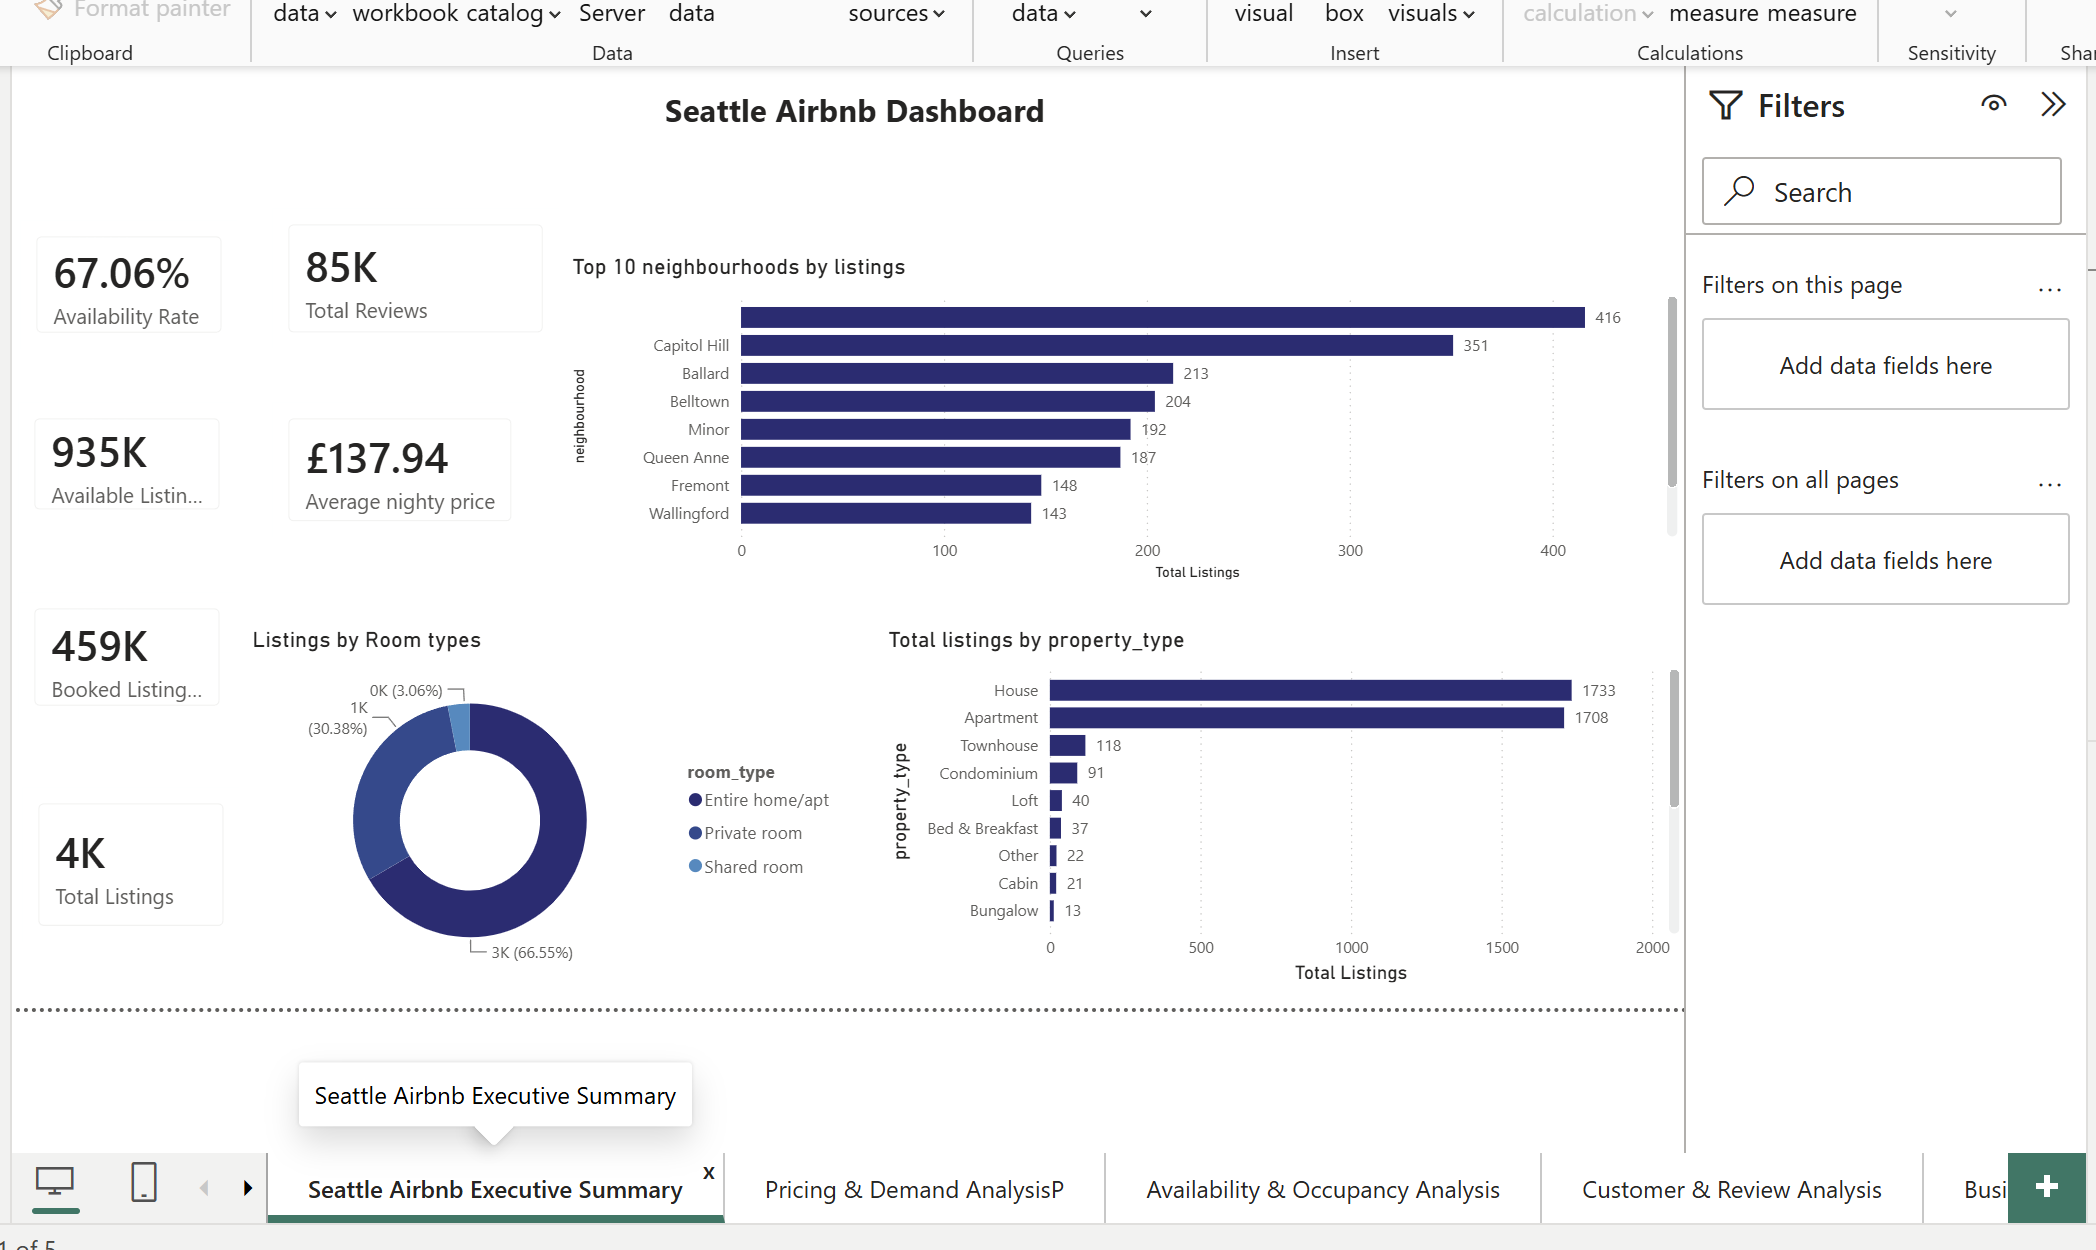

This screenshot's page, from the dashboard's own definition file:
{"tool":"powerbi","page":{"name":"Seattle Airbnb Executive Summary","canvas":[1280,720],"ordinal":0},"visuals":[{"type":"cardVisual","fields":{"Data":["calendar.Total Listings"]},"box":[3.1,546.6,176.1,128.6],"z":0},{"type":"cardVisual","fields":{"Data":["calendar.Property availible"]},"box":[0,252.6,176.1,104.1],"z":1000},{"type":"cardVisual","fields":{"Data":["calendar.Property not availiable"]},"box":[0,398.1,176.1,108.7],"z":2000},{"type":"cardVisual","fields":{"Data":["calendar.occupany %"]},"box":[1.5,113.3,176.1,108.7],"z":3000},{"type":"cardVisual","fields":{"Data":["calendar.Average nighty price"]},"box":[194.4,252.6,205.2,113.3],"z":4000},{"type":"cardVisual","fields":{"Data":["calendar.Total Reviews"]},"box":[194.4,104.1,229.7,117.9],"z":5000},{"type":"barChart","title":"Top 10 neighbourhoods by listings","fields":{"Category":["listings.neighbourhood"],"Y":["calendar.Total Listings"]},"box":[424.1,143.9,855.9,254.2],"z":6000},{"type":"donutChart","title":"Listings by Room types","fields":{"Category":["listings.room_type"],"Y":["calendar.Total Listings"]},"box":[179.1,428.7,460.9,277.1],"z":7000},{"type":"clusteredBarChart","title":" Total listings by property_type","fields":{"Category":["listings.property_type"],"Y":["calendar.Total Listings"]},"box":[666,428.7,615.5,277.1],"z":8000},{"type":"textbox","box":[309.3,12.2,672.2,76.6],"z":9000}]}

Visuals, with their boxes on the page's 1280x720 design canvas (x1, y1, x2, y2). These are canvas units, not pixel positions in the 2096x1250 screenshot, which may show the page scaled, cropped or inside an application window:
cardVisual - calendar.Total Listings: l=3, t=547, r=179, b=675
cardVisual - calendar.Property availible: l=0, t=253, r=176, b=357
cardVisual - calendar.Property not availiable: l=0, t=398, r=176, b=507
cardVisual - calendar.occupany %: l=2, t=113, r=178, b=222
cardVisual - calendar.Average nighty price: l=194, t=253, r=400, b=366
cardVisual - calendar.Total Reviews: l=194, t=104, r=424, b=222
"Top 10 neighbourhoods by listings" barChart: l=424, t=144, r=1280, b=398
"Listings by Room types" donutChart: l=179, t=429, r=640, b=706
" Total listings by property_type" clusteredBarChart: l=666, t=429, r=1282, b=706
textbox: l=309, t=12, r=982, b=89
